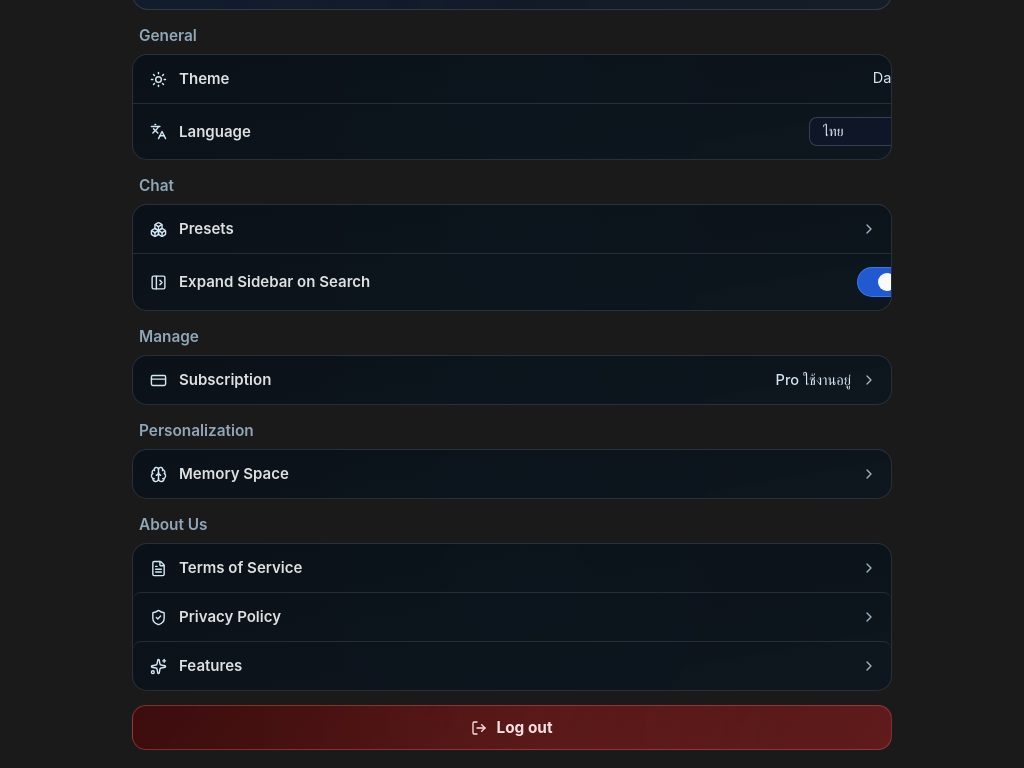
Scenario: SettingsPage › opens presets modal inside settings page
This screenshot has width=1024, height=768.
(page scrolled)
Click the button "Presets" at (206, 229), box [133,205,891,253]
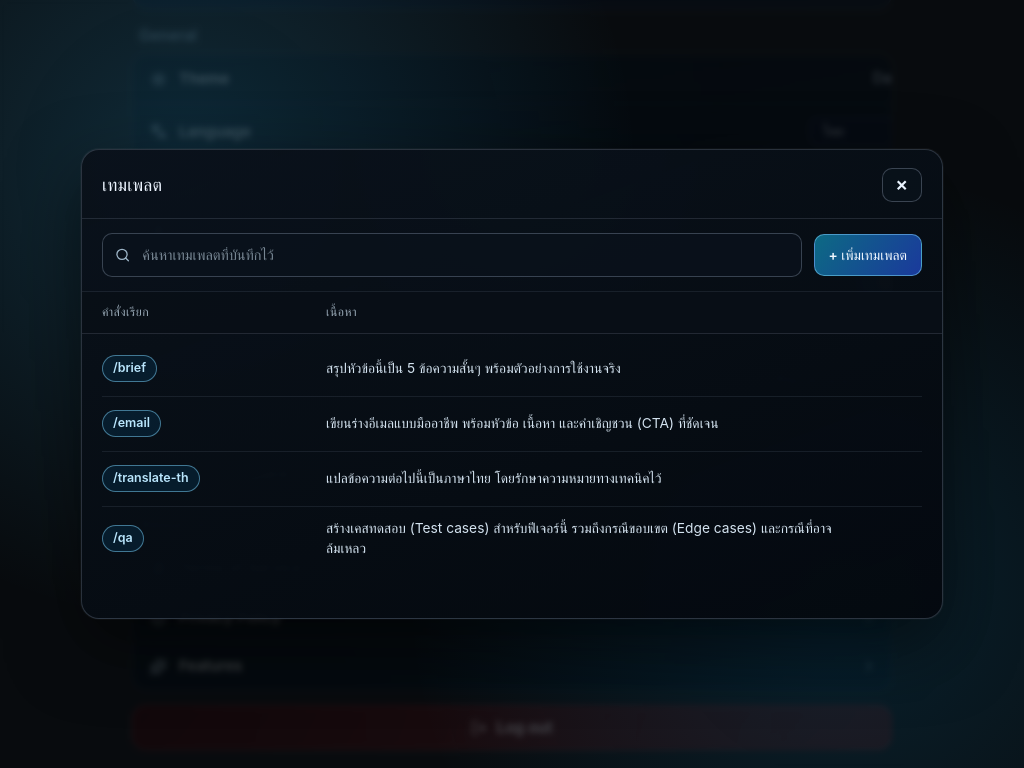
Now the dialog is shown, box [81,149,943,619]
